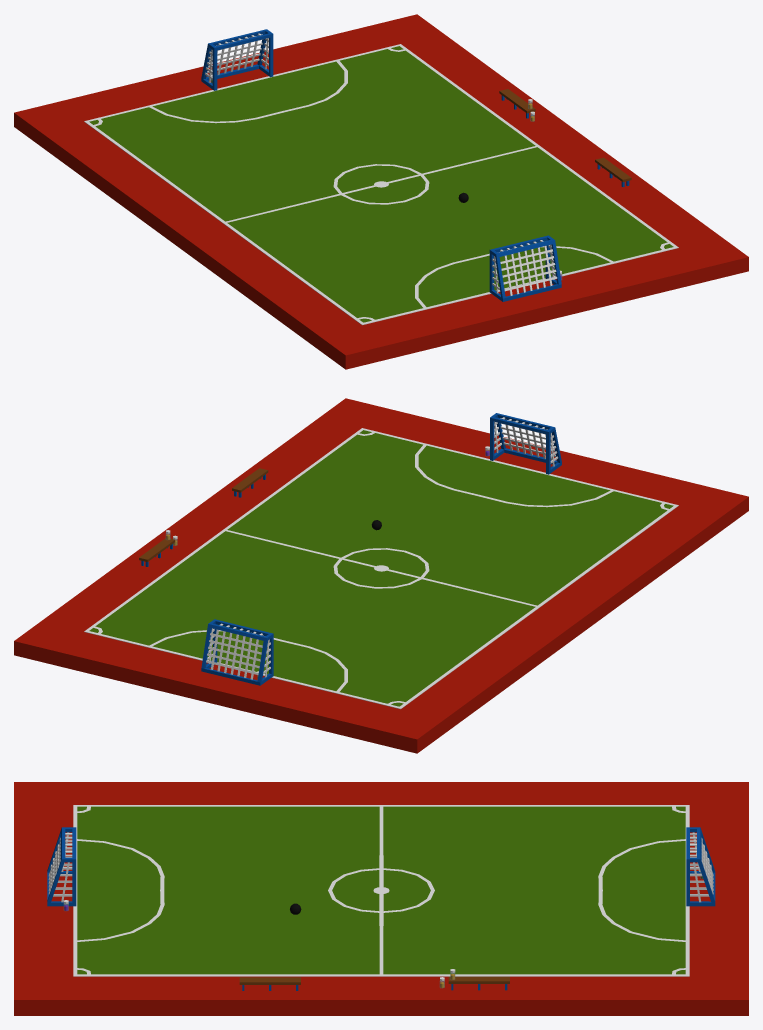
The model's file is Futsal.fbx.
The picture shows the model from 3 angles, top to bottom: view 1: azimuth 30°, elevation 25°; view 2: azimuth 150°, elevation 25°; view 3: azimuth 270°, elevation 25°; orthographic projection. The views are drawn at different scales.
Visible parts, largest first — view 1: Plane087, Box201, Box203, Box202; view 2: Plane087, Box201, Box202, Box203; view 3: Plane087, Box201, Box203, Box202, Box205, Box204.
Boxes of the visible parts, x1,y1,x2,y2 form: Plane087: (84,44,678,325); Box201: (14,14,748,369); Box203: (489,235,561,301); Box202: (201,29,273,90); Plane087: (84,428,678,709); Box201: (14,398,748,753); Box202: (201,619,273,685); Box203: (490,413,561,474); Plane087: (73,805,689,976); Box201: (14,782,748,1015); Box203: (47,827,76,906); Box202: (686,827,715,906); Box205: (239,977,300,990); Box204: (448,976,509,990).
Size of the model in its own units: 1779 by 242 by 2534.
